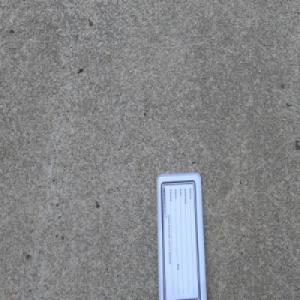LuggageTag: (155, 170, 209, 300)
